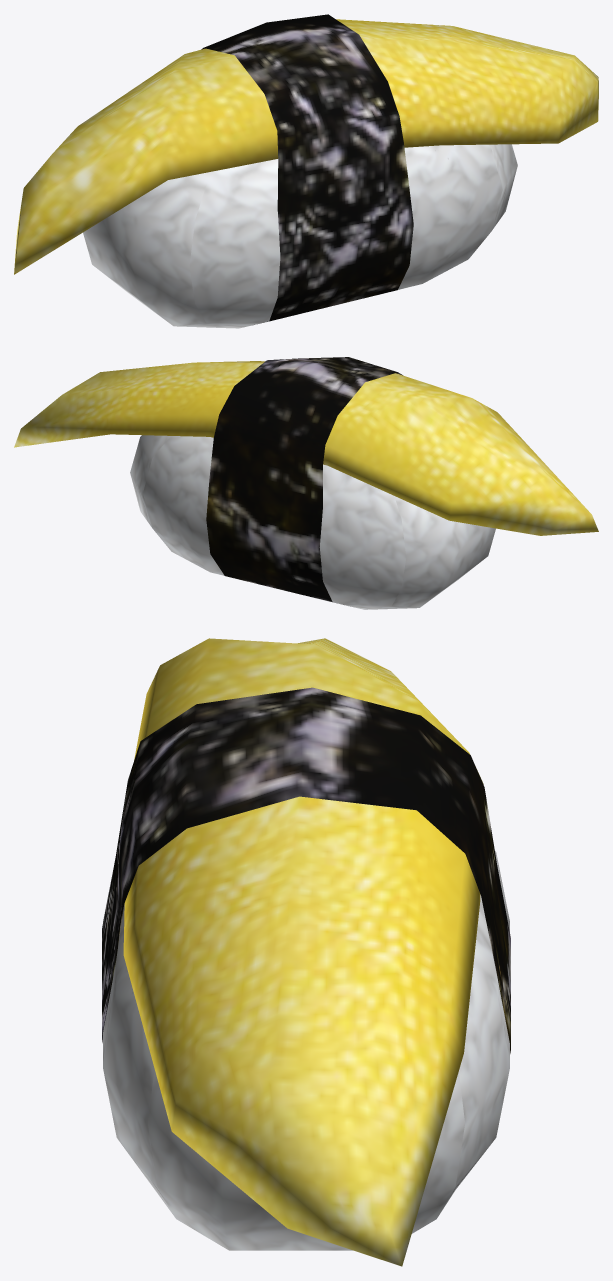
The model's file is herringroe_2.fbx.
3 renders of one model, top to bottom at view 1: azimuth 30°, elevation 25°; view 2: azimuth 150°, elevation 25°; view 3: azimuth 270°, elevation 25°, orthographic. The views are drawn at different scales.
Parts seen in each view (by area): view 1: herringroe_2; view 2: herringroe_2; view 3: herringroe_2.
Part boxes in pixels (bbox=[...]): herringroe_2: bbox=[14, 14, 598, 328]; herringroe_2: bbox=[14, 357, 598, 609]; herringroe_2: bbox=[102, 638, 510, 1266].
Bounding box in the file's own units: 9.55 × 3.62 × 3.14.
